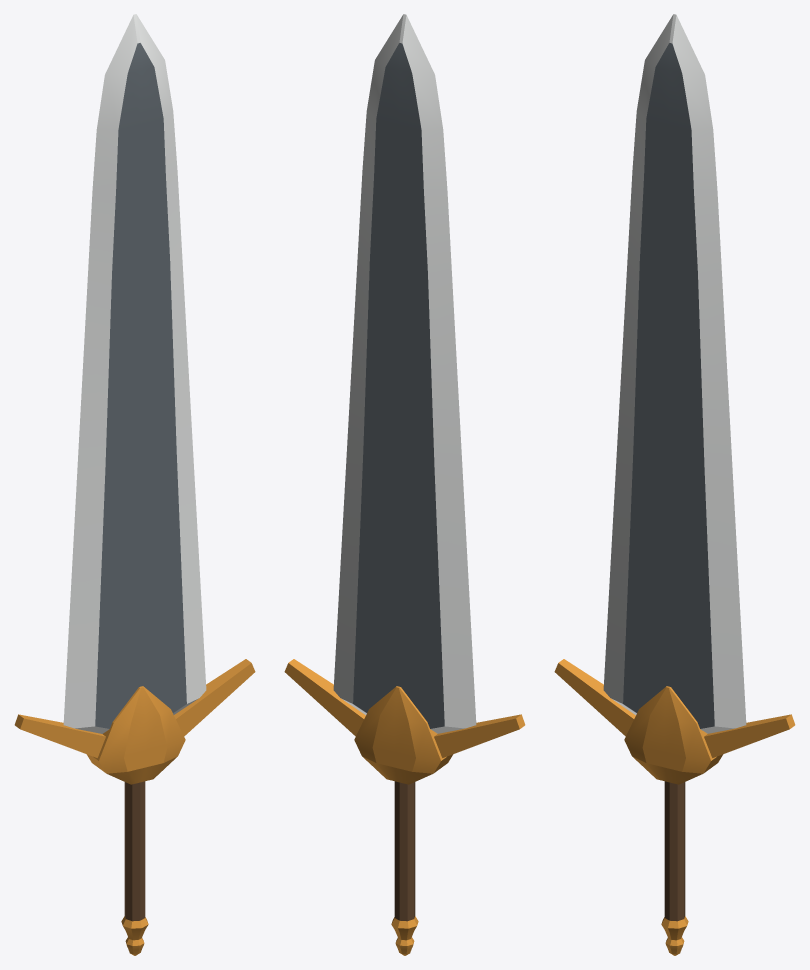
File: two_handed_sword_5.fbx
3 views of the same model, side by side, from view 1: azimuth 30°, elevation 25°; view 2: azimuth 150°, elevation 25°; view 3: azimuth 330°, elevation 25° (orthographic).
Visible parts, largest first — view 1: two_handed_sword_5; view 2: two_handed_sword_5; view 3: two_handed_sword_5.
Boxes of the visible parts, x1=… form: two_handed_sword_5: x1=14, y1=14, x2=255, y2=955; two_handed_sword_5: x1=284, y1=14, x2=525, y2=955; two_handed_sword_5: x1=554, y1=14, x2=795, y2=955.
Size of the model in its own units: 0.4766 by 1.82 by 0.0747.
Materials: 1 (1 with a texture image).
